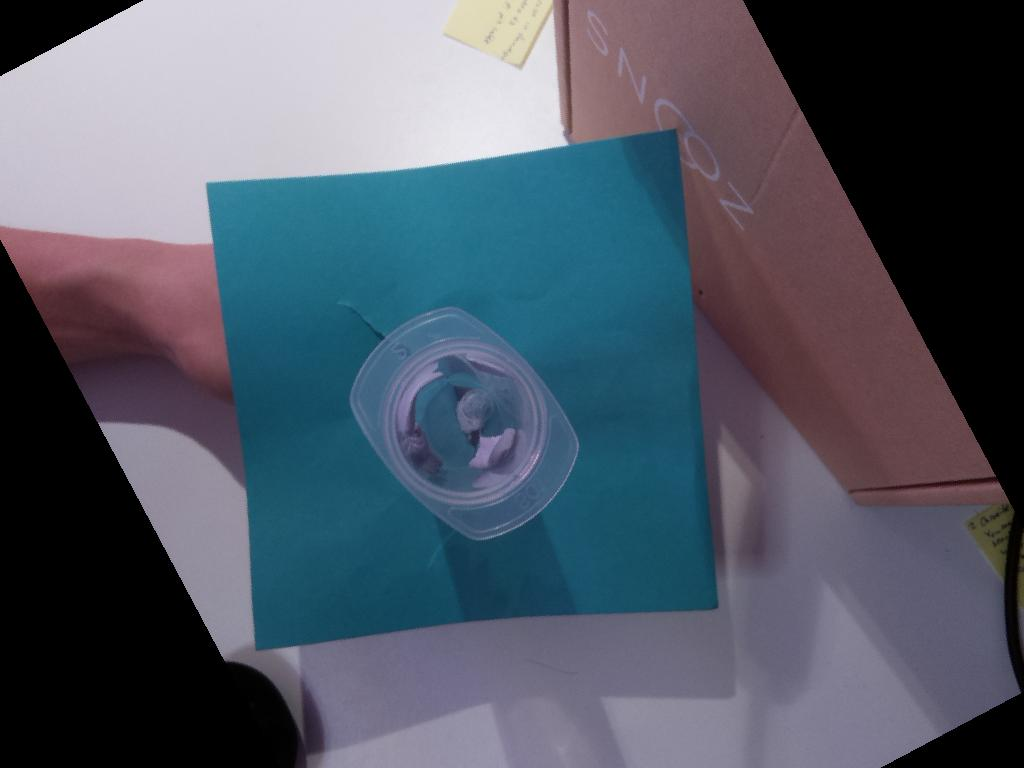dirty: (349, 307, 579, 540)
